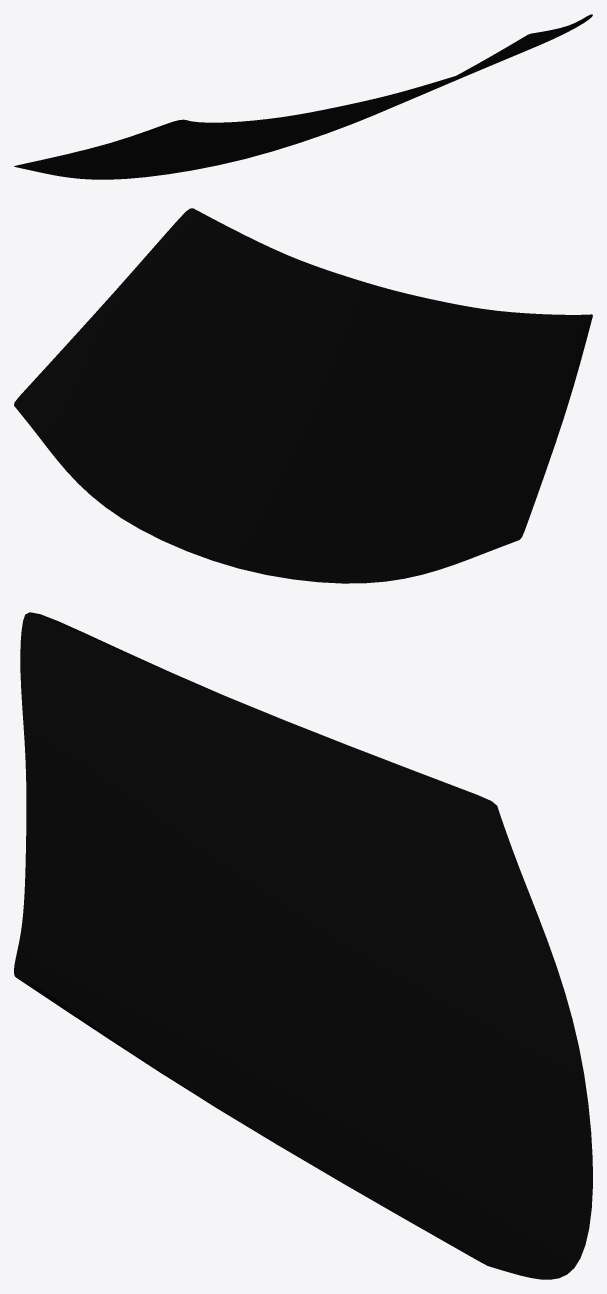
Rendered from Windshield.obj.
3 renders of one model, top to bottom at view 1: azimuth 30°, elevation 25°; view 2: azimuth 150°, elevation 25°; view 3: azimuth 270°, elevation 25°, orthographic. The views are drawn at different scales.
Visible parts, largest first — view 1: Window_Mesh.040; view 2: Window_Mesh.040; view 3: Window_Mesh.040.
Boxes of the visible parts, left/top/right/bottom form: Window_Mesh.040: left=14, top=14, right=592, bottom=179; Window_Mesh.040: left=14, top=208, right=592, bottom=583; Window_Mesh.040: left=14, top=612, right=592, bottom=1279.
Bounding box in the file's own units: 8.64 × 3.3 × 4.42.
1 material, 1 textured.
